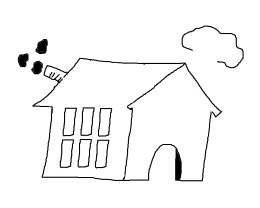clouds: (174, 22, 250, 70)
door: (137, 132, 187, 188)
open_window: (95, 103, 118, 138), (58, 137, 77, 171), (76, 138, 94, 173), (62, 102, 79, 139), (94, 138, 113, 171), (79, 104, 96, 137)
single_line_roof: (27, 55, 231, 118)
smoking_chimney: (11, 37, 71, 87)
wall: (37, 99, 138, 187)
